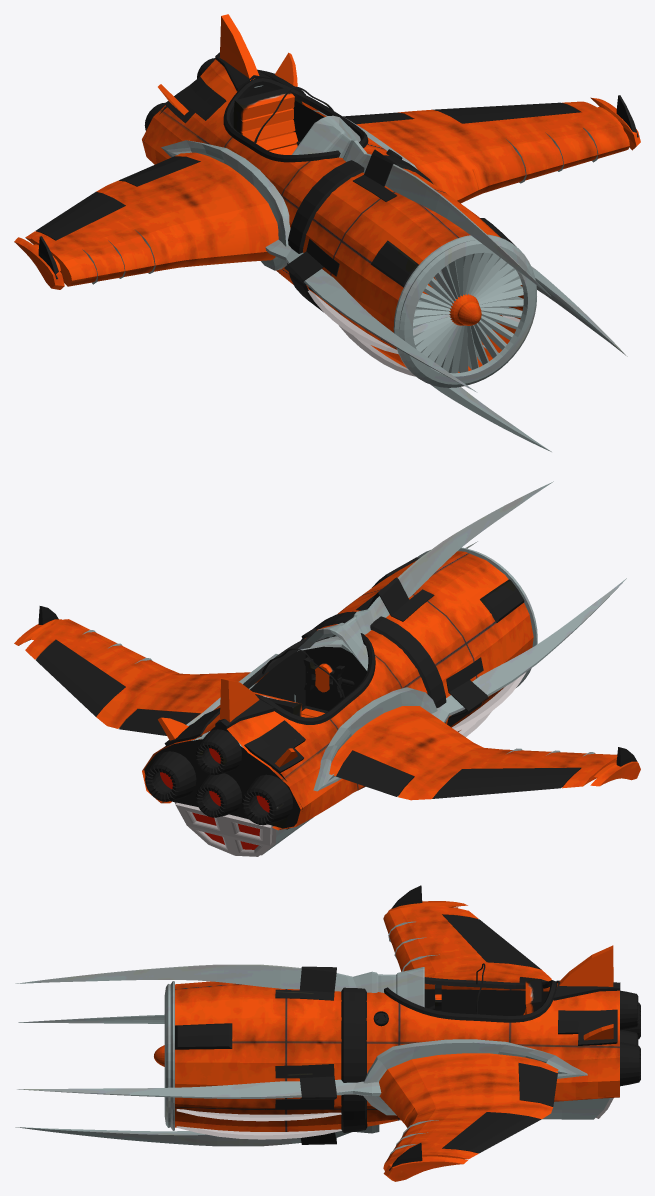
File: low_poly_ship.fbx
3 views of the same model, one above another, from view 1: azimuth 30°, elevation 25°; view 2: azimuth 150°, elevation 25°; view 3: azimuth 270°, elevation 25° (orthographic). The views are drawn at different scales.
Parts seen in each view (by area): view 1: low_poly; view 2: low_poly; view 3: low_poly.
Part boxes in pixels (bbox=[...]): low_poly: bbox=[14, 14, 640, 451]; low_poly: bbox=[14, 481, 640, 856]; low_poly: bbox=[15, 885, 640, 1181].
Bounding box in the file's own units: 411 × 146 × 417.
